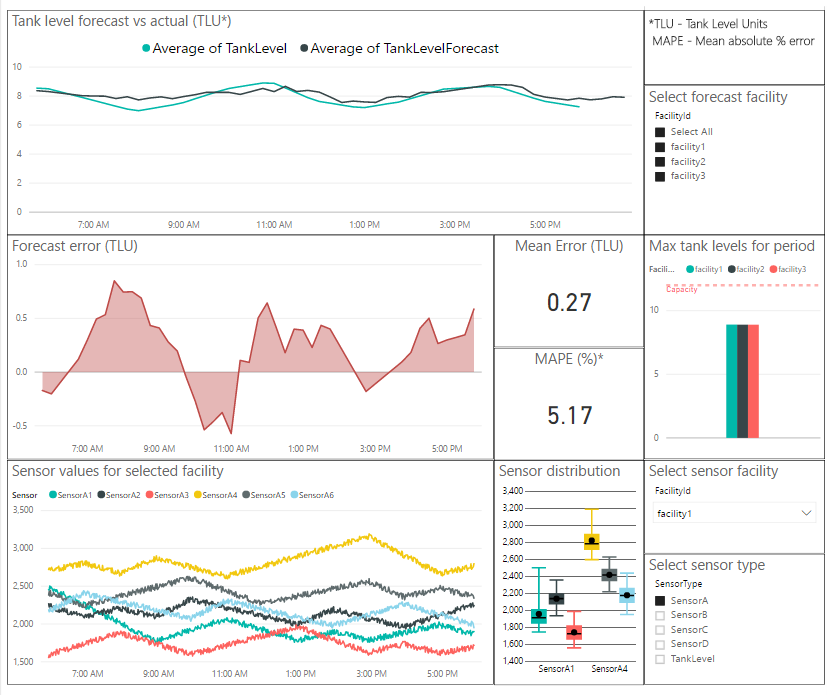

This screenshot's page, from the dashboard's own definition file:
{"tool":"powerbi","page":{"name":"Forecast Output","canvas":[1050,880],"ordinal":0},"visuals":[{"type":"areaChart","fields":{"Category":["TankLevelForecastPbi.Time"],"Y":["Avg(TankLevelForecastPbi.Error)"]},"box":[0,288,624,288],"z":3},{"type":"slicer","fields":{"Values":["TankLevelForecastPbi.FacilityId"]},"box":[816,96,232,192],"z":5},{"type":"textbox","box":[816,0,232,96],"z":6},{"type":"clusteredColumnChart","fields":{"Y":["Max(TankLevelForecastPbi.TankLevel)"],"Series":["TankLevelForecastPbi.FacilityId"]},"box":[816,288,232,288],"z":6},{"type":"lineChart","fields":{"Y":["Avg(TankLevelForecastPbi.TankLevel)","Avg(TankLevelForecastPbi.TankLevelForecast)"],"Category":["TankLevelForecastPbi.Time"]},"box":[0,0,816,288],"z":7},{"type":"card","fields":{"Values":["Avg(TankLevelForecastPbi.Error)"]},"box":[624,288,192,144],"z":7},{"type":"card","fields":{"Values":["Avg(TankLevelForecastPbi.AbsPctError)"]},"box":[624,432,192,144],"z":8},{"type":"BoxWhiskerChart1455240051538","fields":{"Groups":["TankLevelSensorPbi.Sensor"],"Values":["Avg(TankLevelSensorPbi.Value)"],"Samples":["TankLevelSensorPbi.Time"]},"box":[624,576,192,288],"z":8},{"type":"lineChart","fields":{"Series":["TankLevelSensorPbi.Sensor"],"Category":["TankLevelSensorPbi.Time"],"Y":["Avg(TankLevelSensorPbi.Value)"]},"box":[0,576,624,288],"z":9},{"type":"slicer","fields":{"Values":["TankLevelSensorPbi.FacilityId"]},"box":[816,576,232,120],"z":10},{"type":"slicer","fields":{"Values":["TankLevelSensorPbi.SensorType"]},"box":[816,696,232,168],"z":11}]}

Visuals, with their boxes in screenshot pixels (x1, y1, x2, y2), scaled from the page's 1050x880 canvas onto the 833x695 screenshot:
areaChart - TankLevelForecastPbi.Time x Avg(TankLevelForecastPbi.Error): Rect(0, 227, 495, 455)
slicer - TankLevelForecastPbi.FacilityId: Rect(647, 76, 831, 227)
textbox: Rect(647, 0, 831, 76)
clusteredColumnChart - Max(TankLevelForecastPbi.TankLevel) x TankLevelForecastPbi.FacilityId: Rect(647, 227, 831, 455)
lineChart - Avg(TankLevelForecastPbi.TankLevel) x Avg(TankLevelForecastPbi.TankLevelForecast): Rect(0, 0, 647, 227)
card - Avg(TankLevelForecastPbi.Error): Rect(495, 227, 647, 341)
card - Avg(TankLevelForecastPbi.AbsPctError): Rect(495, 341, 647, 455)
BoxWhiskerChart1455240051538 - TankLevelSensorPbi.Sensor x Avg(TankLevelSensorPbi.Value): Rect(495, 455, 647, 682)
lineChart - TankLevelSensorPbi.Sensor x TankLevelSensorPbi.Time: Rect(0, 455, 495, 682)
slicer - TankLevelSensorPbi.FacilityId: Rect(647, 455, 831, 550)
slicer - TankLevelSensorPbi.SensorType: Rect(647, 550, 831, 682)
